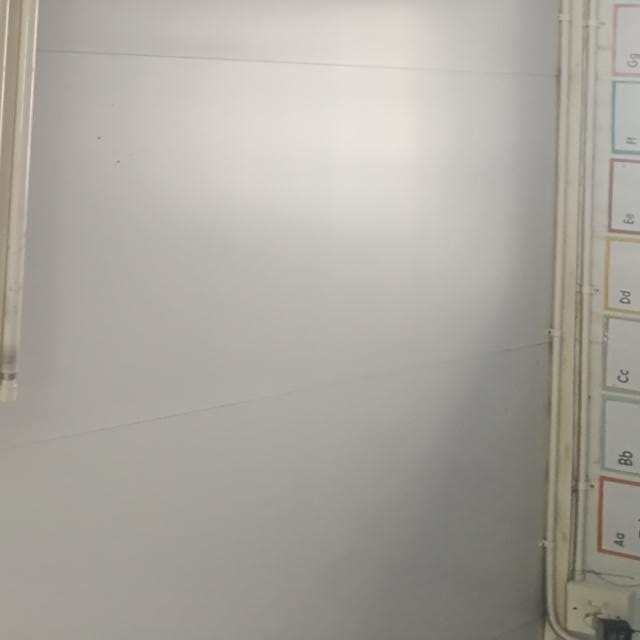fluorescent tube: (0, 0, 151, 445)
